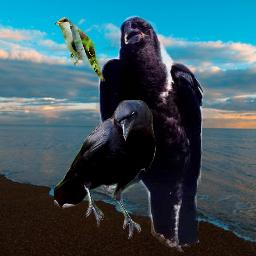Crow: (97, 15, 205, 252), (54, 100, 156, 239)
Cuckoo: (53, 17, 107, 82)
